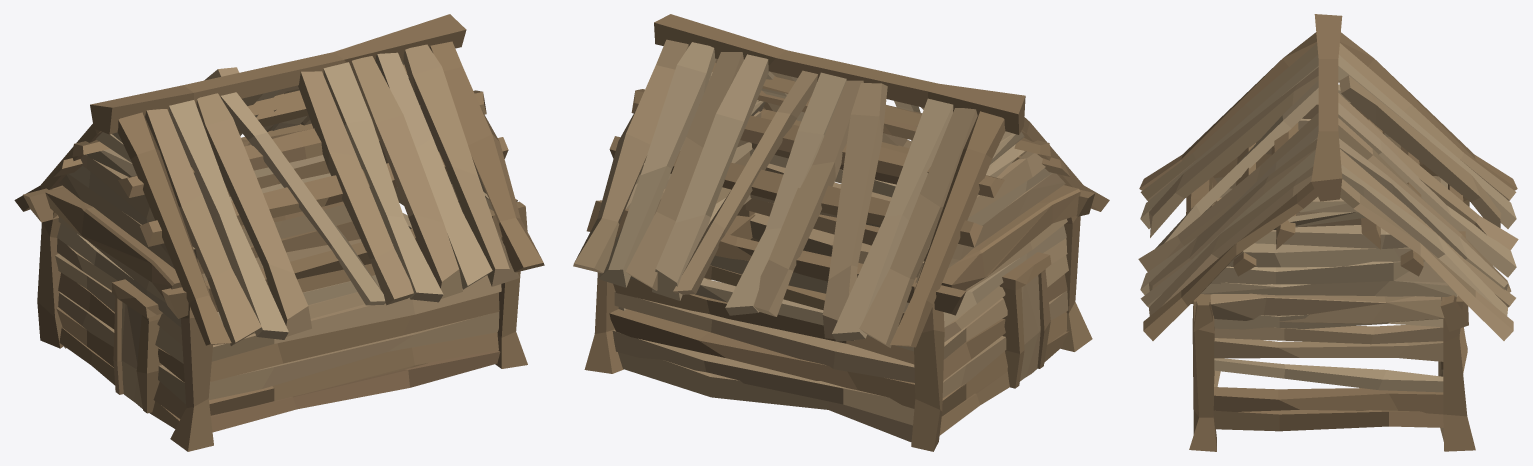
File: Model_Forest_3x3A.fbx
The picture shows the model from 3 angles, left to right: view 1: azimuth 30°, elevation 25°; view 2: azimuth 150°, elevation 25°; view 3: azimuth 270°, elevation 25°; orthographic projection. The views are drawn at different scales.
Visible parts, largest first — view 1: Model_Frost_3x3A; view 2: Model_Frost_3x3A; view 3: Model_Frost_3x3A.
Part boxes in pixels (left/top/right/bottom): Model_Frost_3x3A: left=14, top=14, right=544, bottom=451; Model_Frost_3x3A: left=573, top=14, right=1109, bottom=451; Model_Frost_3x3A: left=1138, top=14, right=1518, bottom=451.
Bounding box in the file's own units: 597 × 465 × 570.
Materials: 1 (1 with a texture image).
